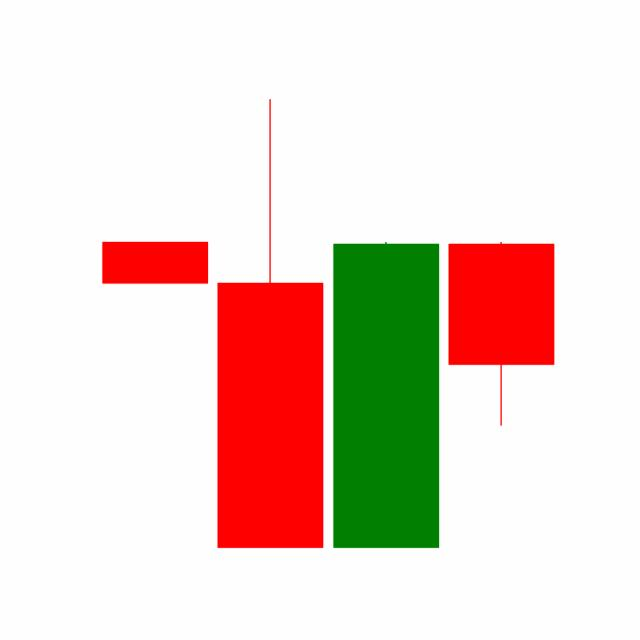Marubozu: (328, 238, 444, 550)
